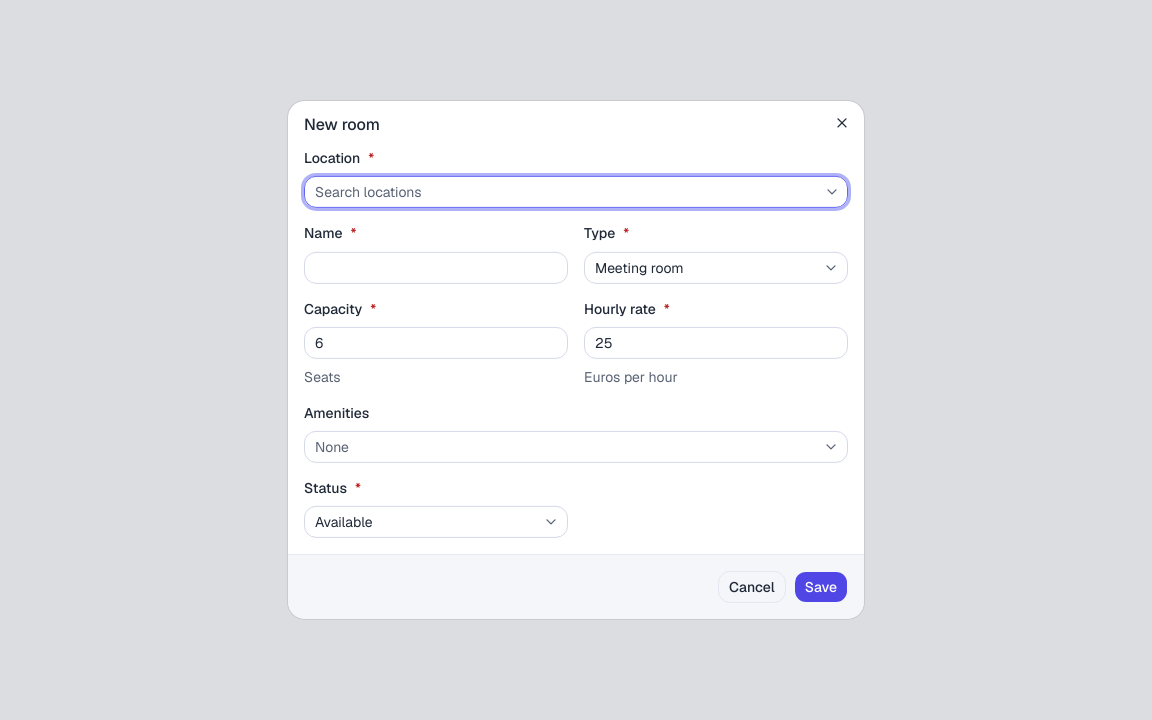
Scenario: RoomFormDialog: creating › shows the validation messages under the fields, focuses the first and sends nothing
Click the button "Save": (821, 587) [794, 571, 848, 603]
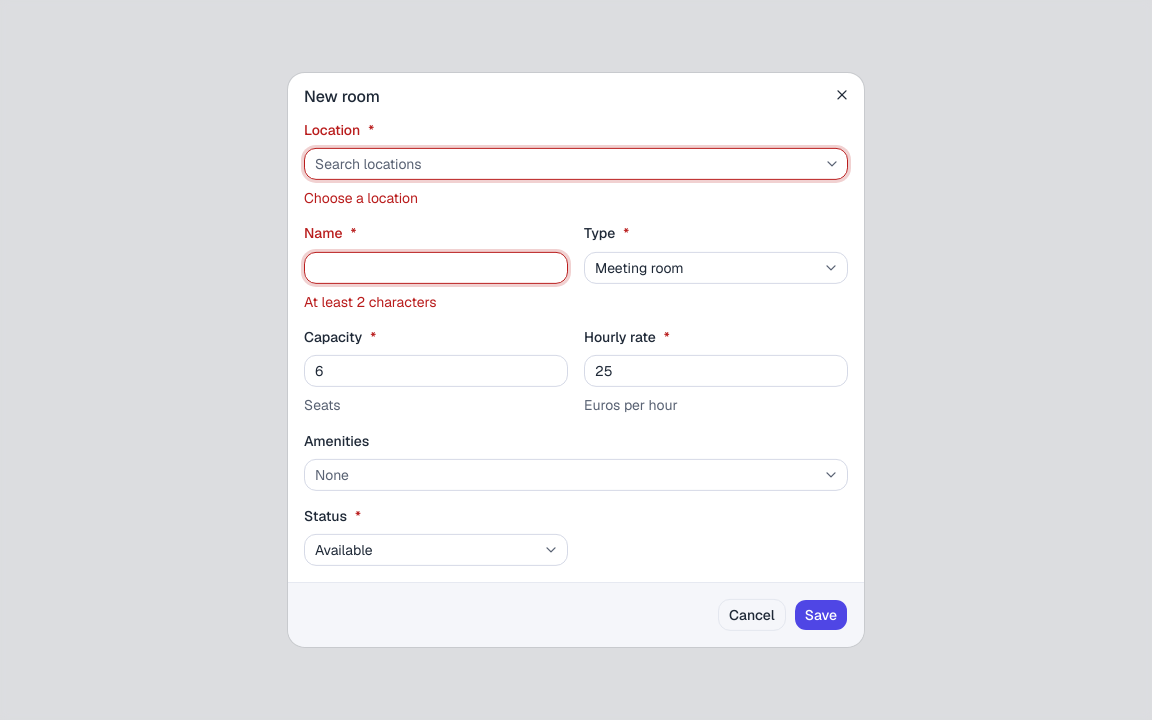
Result: the text "Choose a location" is shown at [304, 189, 418, 207]
Result: the text "At least 2 characters" is shown at [304, 292, 436, 310]
